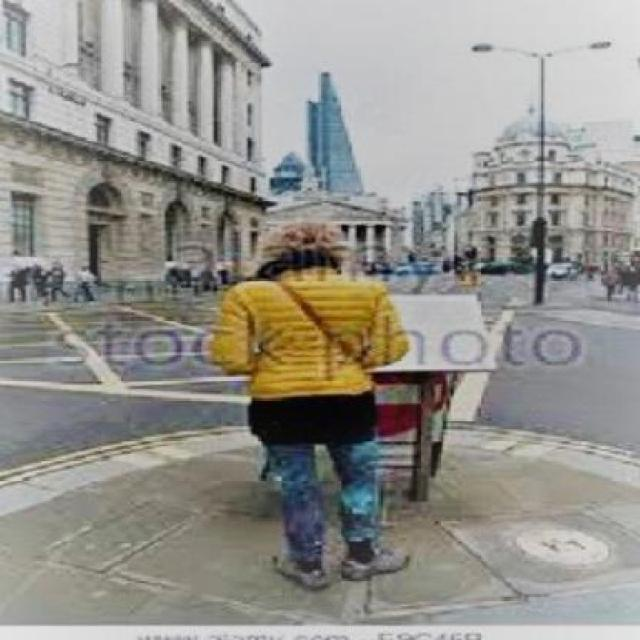Person: (210, 202, 412, 587)
